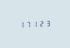one: (18, 20, 24, 28), (32, 20, 38, 27)
seven: (25, 20, 31, 28)
three: (46, 19, 52, 27)
two: (39, 19, 45, 27)
